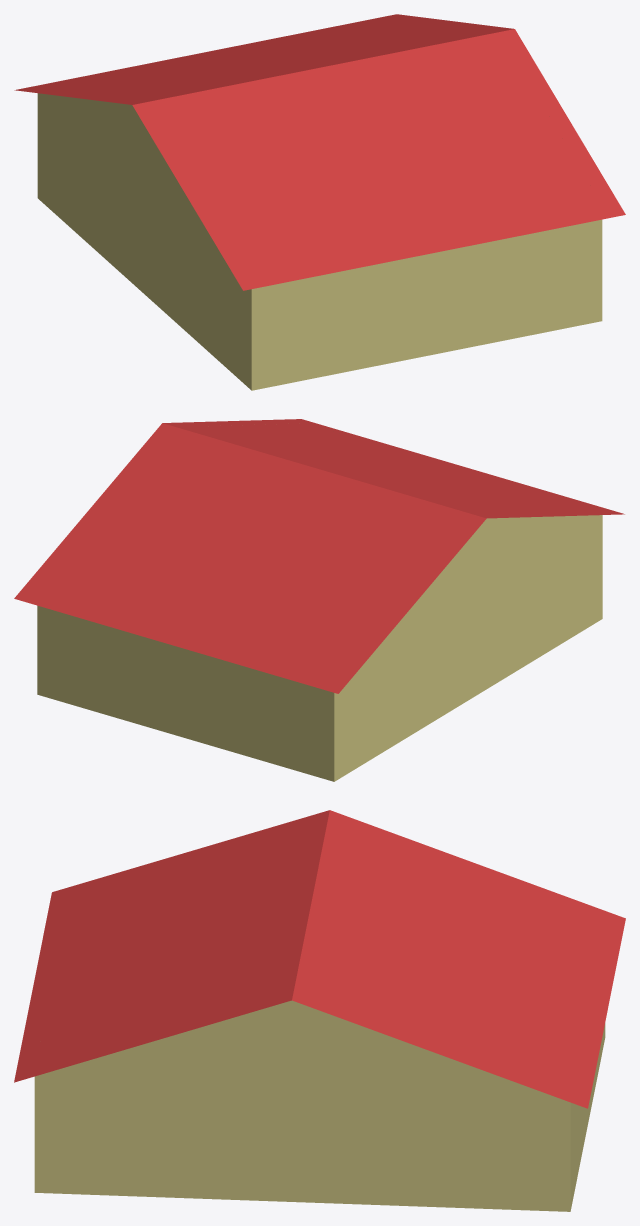
The picture shows the model from 3 angles, top to bottom: view 1: azimuth 30°, elevation 25°; view 2: azimuth 150°, elevation 25°; view 3: azimuth 270°, elevation 25°; orthographic projection. The views are drawn at different scales.
Size of the model in its own units: 26.08 by 31.98 by 12.09.
